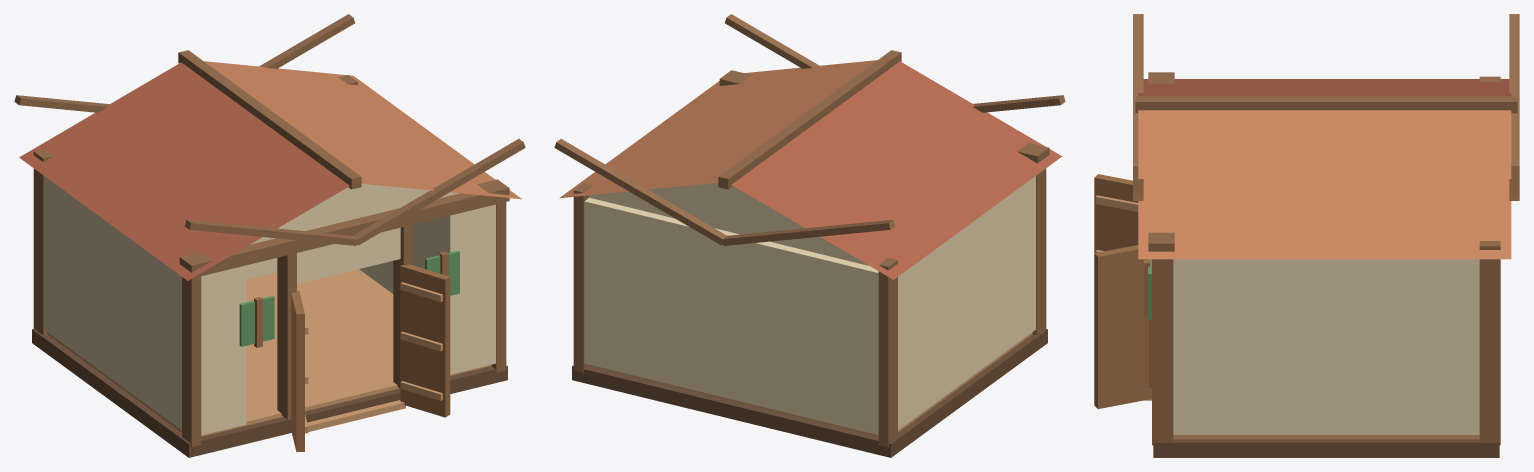
The model's file is barn.glb.
The picture shows the model from 3 angles, left to right: view 1: azimuth 30°, elevation 25°; view 2: azimuth 150°, elevation 25°; view 3: azimuth 270°, elevation 25°; orthographic projection. The views are drawn at different scales.
Parts seen in each view (by area): view 1: barn_barnWall, barn_roof, barn_barnTrim, barn_woodLight, barn_roofLight, barn_woodDark, door_right_wood, door_left_wood, barn_green, door_right_woodLight, barn_wood; view 2: barn_barnWall, barn_roof, barn_barnTrim, barn_roofLight, barn_woodDark, barn_woodLight; view 3: barn_roofLight, barn_barnWall, barn_barnTrim, door_right_wood, barn_woodDark, barn_roof, door_left_wood, barn_woodLight, door_left_woodLight.
Boxes of the visible parts, box(x1,y1,x2,y2) form: barn_barnWall: box(44, 176, 495, 435); barn_roof: box(19, 62, 349, 280); barn_barnTrim: box(14, 14, 525, 447); barn_woodLight: box(47, 269, 491, 436); barn_roofLight: box(204, 61, 521, 199); barn_woodDark: box(32, 329, 507, 457); door_right_wood: box(400, 264, 450, 417); door_left_wood: box(291, 290, 304, 452); barn_green: box(239, 250, 459, 346); door_right_woodLight: box(400, 282, 442, 400); barn_wood: box(254, 251, 448, 347); barn_barnWall: box(584, 176, 1035, 434); barn_roof: box(731, 61, 1061, 279); barn_barnTrim: box(554, 14, 1065, 447); barn_roofLight: box(559, 60, 877, 198); barn_woodDark: box(572, 329, 1047, 457); barn_woodLight: box(588, 332, 1032, 436); barn_roofLight: box(1138, 110, 1511, 259); barn_barnWall: box(1173, 259, 1479, 434); barn_barnTrim: box(1133, 14, 1519, 445); door_right_wood: box(1094, 245, 1151, 408); barn_woodDark: box(1153, 439, 1499, 457); barn_roof: box(1138, 79, 1511, 96); door_left_wood: box(1094, 174, 1138, 252); barn_woodLight: box(1145, 399, 1479, 439); door_left_woodLight: box(1095, 195, 1138, 252).
Bounding box in the file's own units: 4.06 × 2.85 × 4.03.
